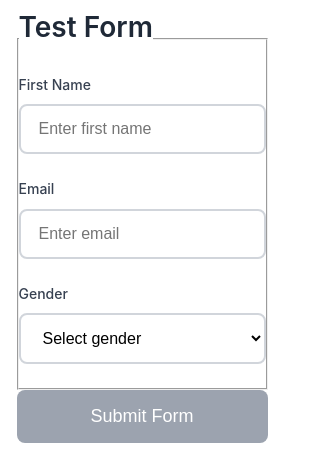
Test case: DynamicForm › enables submit button when form is valid
The width and height of the screenshot is (320, 460).
Step 1. Type "John" into the field labelled "First Name" → x=142, y=129, box [18,104,266,154]
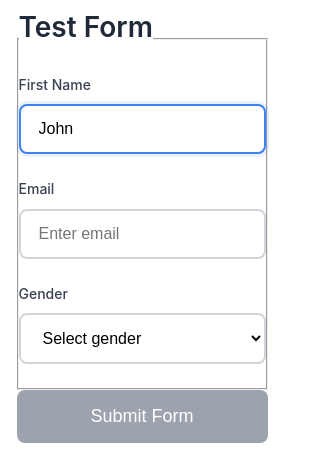
Step 2. Type "john@example.com" into the field labelled "Email" → x=142, y=234, box [18,209,266,259]
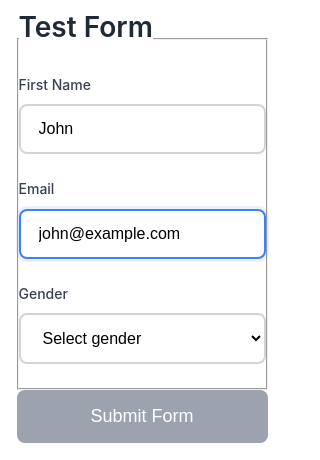
Step 3. Select "Male" in the dropdown labelled "Gender" → x=142, y=338, box [18,313,266,364]
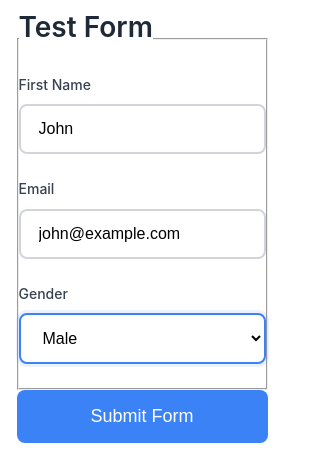
Expected: the button "Submit Form" is enabled, [16,390,268,443]
